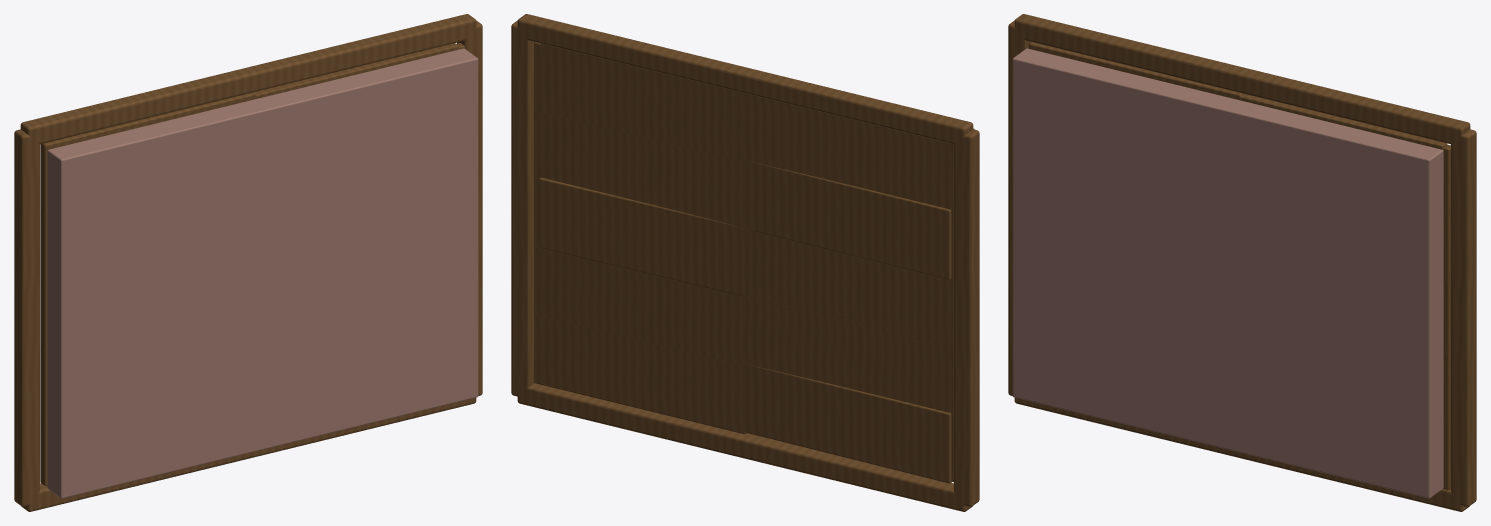
The model's file is ENV_BoardedWindow.fbx.
3 views of the same model, side by side, from view 1: azimuth 30°, elevation 25°; view 2: azimuth 150°, elevation 25°; view 3: azimuth 330°, elevation 25° (orthographic).
Parts seen in each view (by area): view 1: Window_BrickWall, Window_Frame, Window_Board_05, Window_Board_Broken_05, Window_Board_Broken_01, Window_Board_Broken_02, Window_Board_Broken_03, Window_Board_Broken_04; view 2: Window_Frame, Window_Board_05, Window_Board_Broken_02, Window_Board_02, Window_Board_Broken_05, Window_Board_Broken_01, Window_Board_01, Window_Board_04, Window_Board_03, Window_Board_Broken_03, Window_Board_Broken_04; view 3: Window_BrickWall, Window_Frame, Window_Board_05, Window_Board_Broken_05, Window_Board_Broken_01, Window_Board_Broken_02, Window_Board_Broken_04, Window_Board_Broken_03.
Boxes of the visible parts, left/top/right/bottom form: Window_BrickWall: left=47, top=48, right=478, bottom=498; Window_Frame: left=14, top=14, right=482, bottom=511; Window_Board_05: left=49, top=43, right=458, bottom=149; Window_Board_Broken_05: left=40, top=43, right=464, bottom=213; Window_Board_Broken_01: left=40, top=415, right=47, bottom=485; Window_Board_Broken_02: left=40, top=347, right=47, bottom=417; Window_Board_Broken_03: left=40, top=279, right=47, bottom=349; Window_Board_Broken_04: left=40, top=211, right=47, bottom=281; Window_Frame: left=511, top=14, right=979, bottom=511; Window_Board_05: left=540, top=43, right=949, bottom=209; Window_Board_Broken_02: left=534, top=247, right=953, bottom=413; Window_Board_02: left=541, top=248, right=949, bottom=412; Window_Board_Broken_05: left=534, top=42, right=953, bottom=209; Window_Board_Broken_01: left=534, top=314, right=953, bottom=482; Window_Board_01: left=744, top=364, right=951, bottom=483; Window_Board_04: left=743, top=161, right=951, bottom=279; Window_Board_03: left=539, top=177, right=746, bottom=296; Window_Board_Broken_03: left=534, top=179, right=953, bottom=345; Window_Board_Broken_04: left=534, top=111, right=953, bottom=277; Window_BrickWall: left=1012, top=48, right=1443, bottom=498; Window_Frame: left=1008, top=14, right=1476, bottom=511; Window_Board_05: left=1032, top=47, right=1447, bottom=149; Window_Board_Broken_05: left=1029, top=42, right=1450, bottom=217; Window_Board_Broken_01: left=1443, top=420, right=1450, bottom=489; Window_Board_Broken_02: left=1443, top=353, right=1450, bottom=421; Window_Board_Broken_04: left=1443, top=217, right=1450, bottom=285; Window_Board_Broken_03: left=1443, top=285, right=1450, bottom=353.
Size of the model in its own units: 148 by 118 by 14.5.
